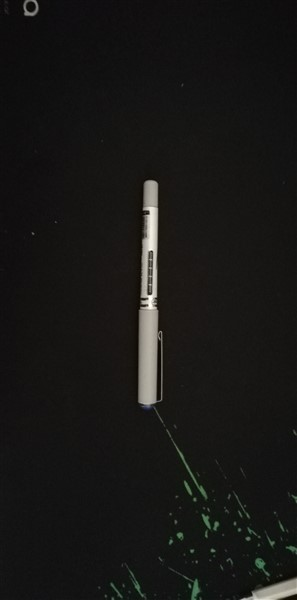pilot kalem: (128, 171, 174, 413)
